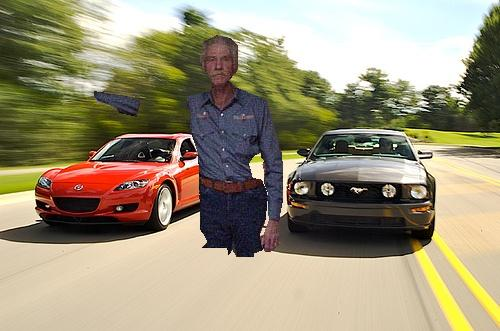tampered: (95, 36, 283, 257)
